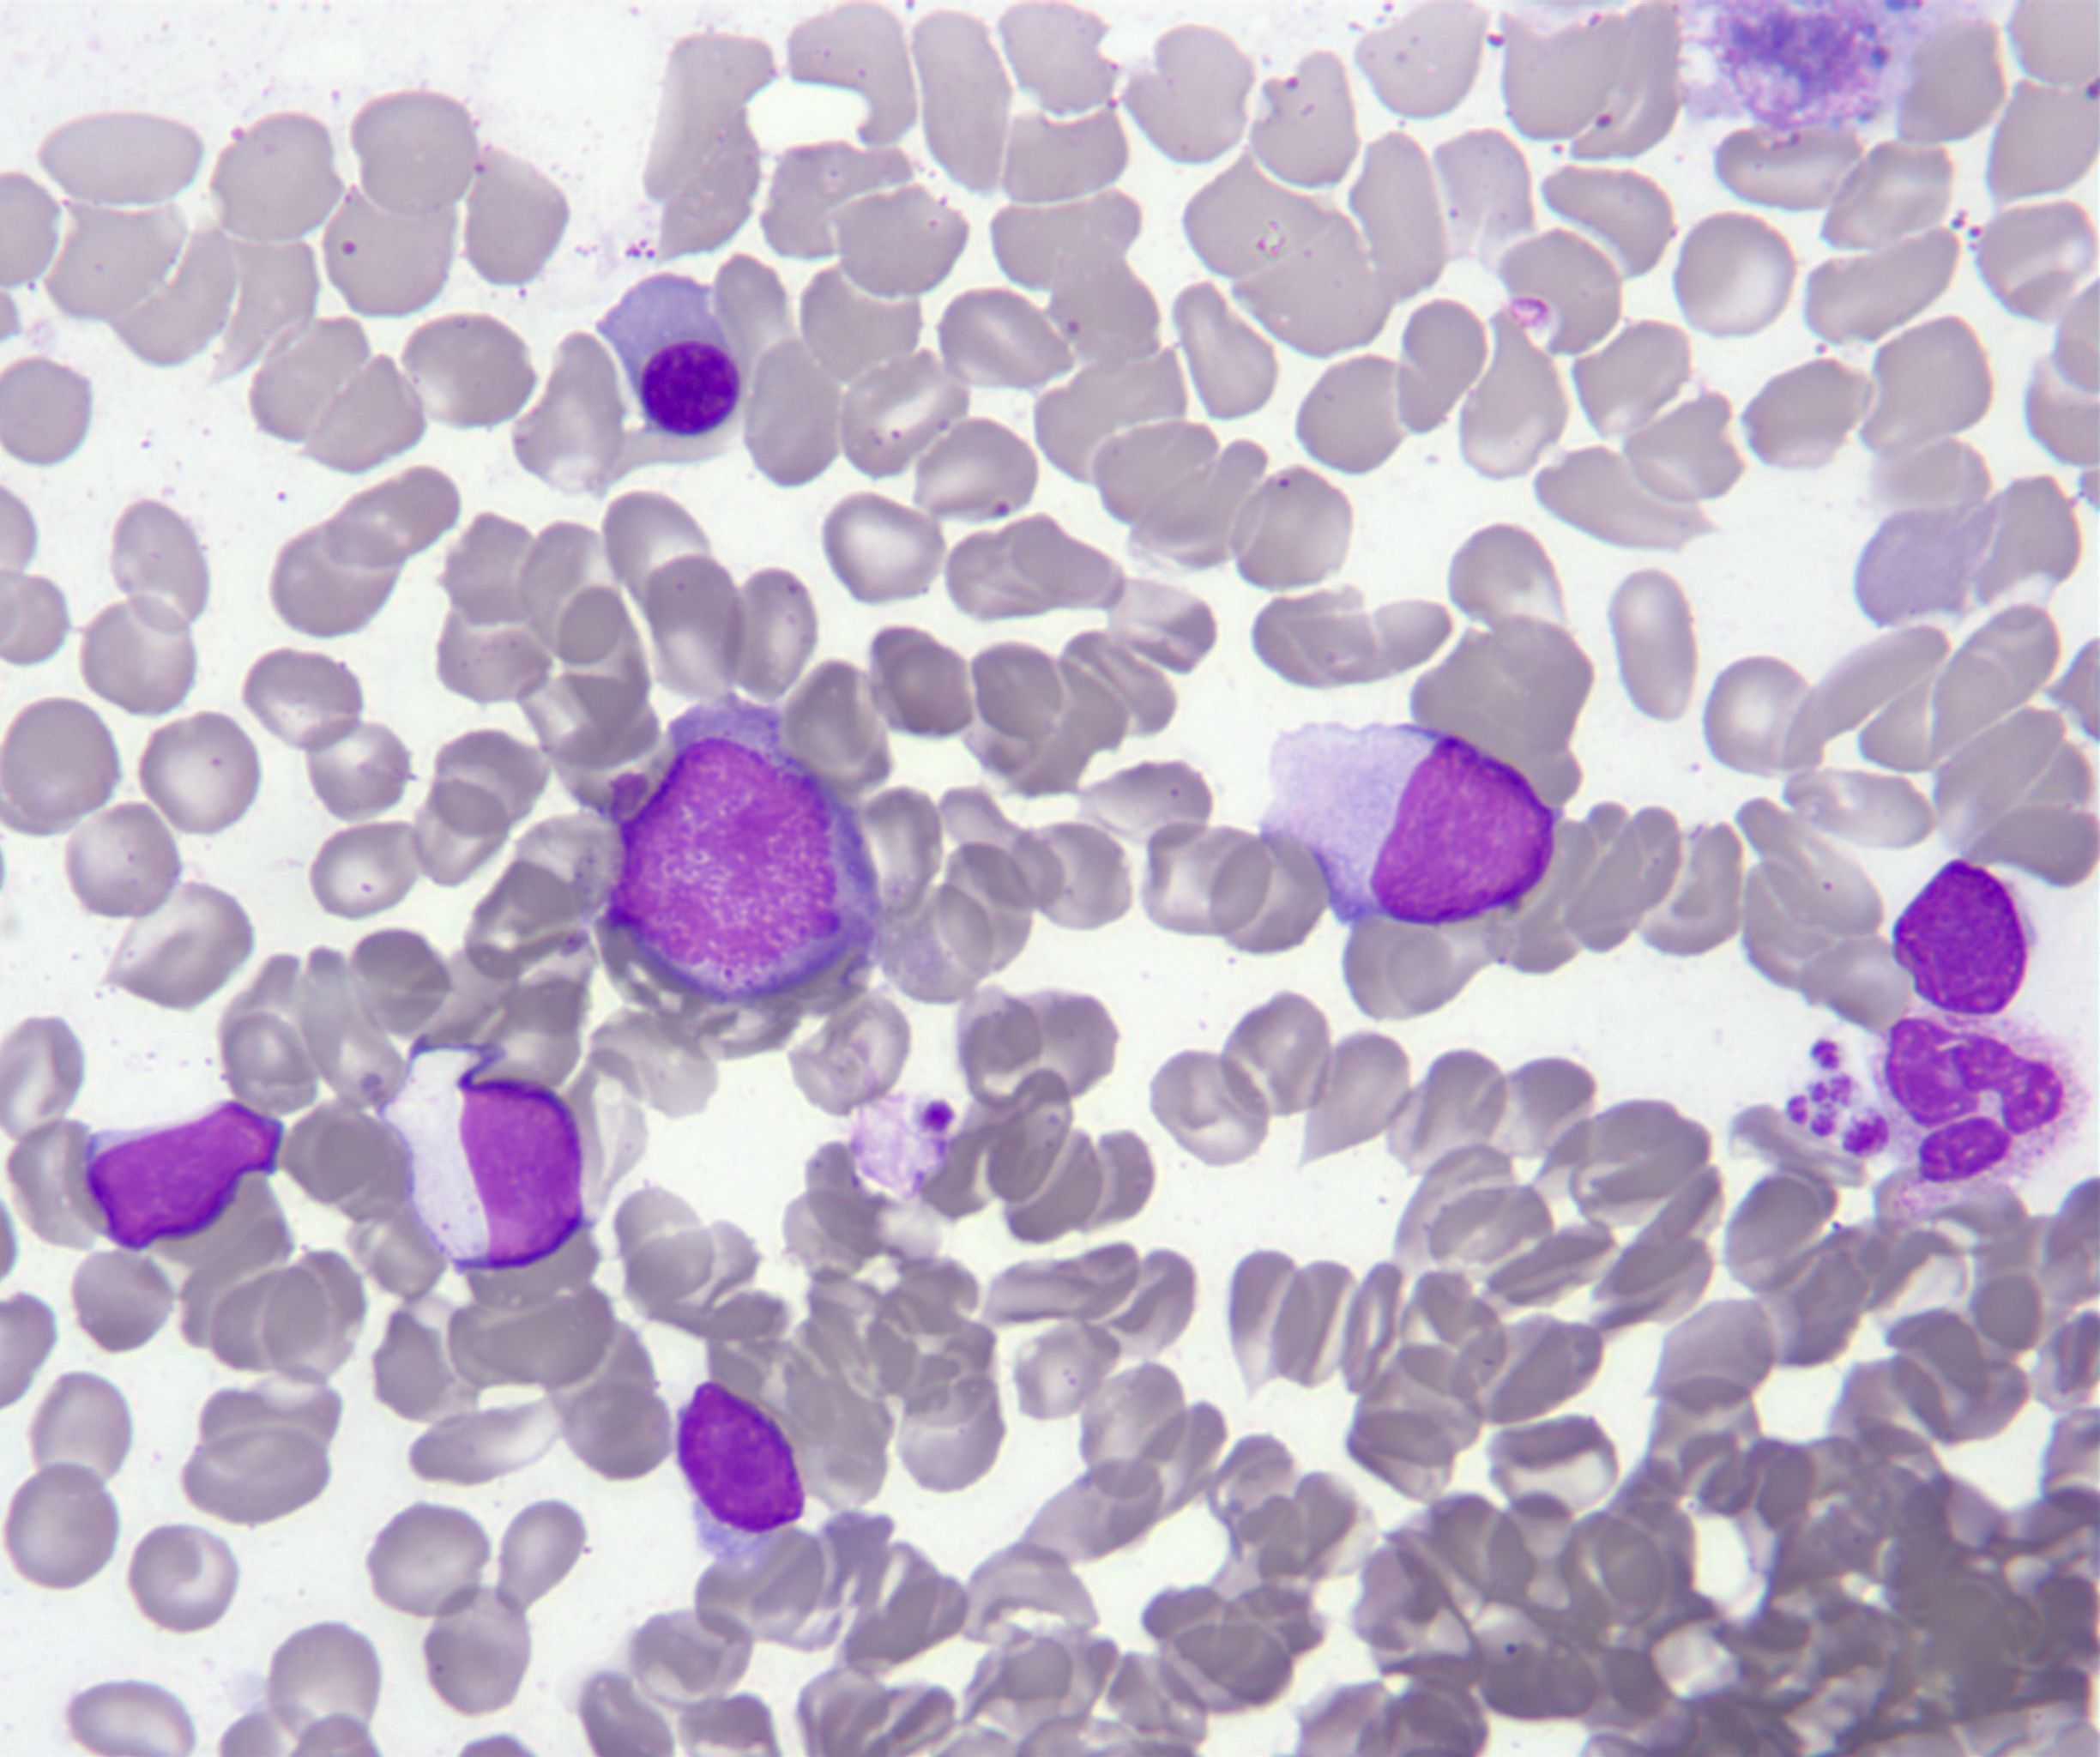23: (597, 272, 740, 436)
32: (1265, 722, 1565, 925), (382, 1045, 584, 1270), (82, 1101, 283, 1251), (675, 1382, 806, 1572), (1894, 862, 2037, 1017)
6: (1872, 1008, 2090, 1228)
x: (603, 696, 881, 1002)
